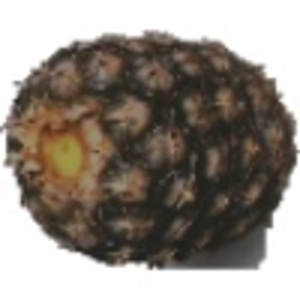abacaxi: (5, 28, 295, 266)
